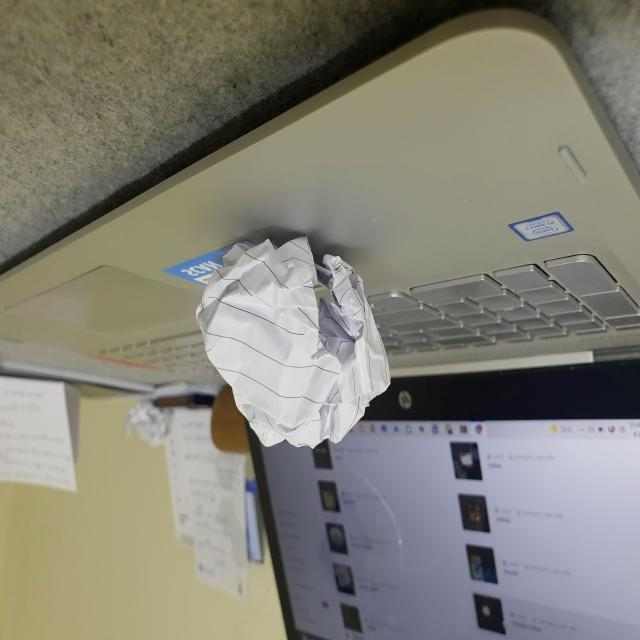Paper: (209, 243, 397, 440)
